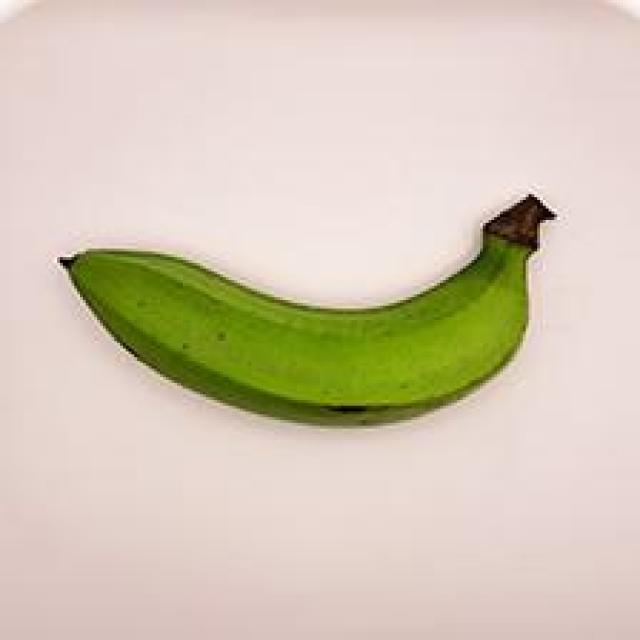Raw: (46, 168, 578, 452)
